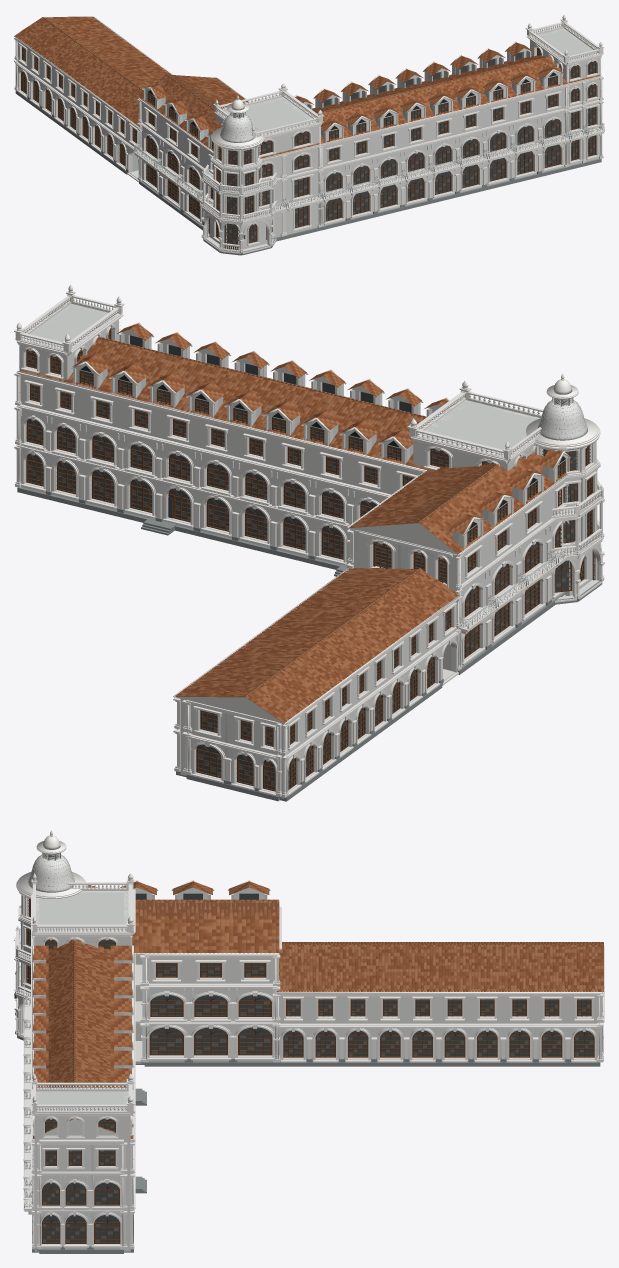
Rendered from b2bd7e80-a737-4557-a658-5c7fc2249a0a-building_reconstruction.glb.
3 renders of one model, top to bottom at view 1: azimuth 30°, elevation 25°; view 2: azimuth 150°, elevation 25°; view 3: azimuth 270°, elevation 25°, orthographic. The views are drawn at different scales.
Parts seen in each view (by area): view 1: Low annex | individually modeled clay tiles, Long main wing | individually modeled clay tiles, Near tower pavilion | bay 02, Short main wing | individually modeled clay tiles, Near pavilion | parapet and roof terrace, Tower | octagon face 05, Long street elevation | bay 04, Long street elevation | bay 08, Long street elevation | bay 05, Long street elevation | bay 07, Long street elevation | bay 03, Long street elevation | bay 02 (+48 smaller); view 2: Low annex | individually modeled clay tiles, Long main wing | individually modeled clay tiles, Short main wing | individually modeled clay tiles, Near pavilion | parapet and roof terrace, Inferred main courtyard elevation | bay 06, Inferred main courtyard elevation | bay 09, Inferred main courtyard elevation | bay 05, Inferred main courtyard elevation | bay 04, Inferred main courtyard elevation | bay 08, Inferred main courtyard elevation | bay 07, Inferred main courtyard elevation | bay 03, Inferred main courtyard elevation | bay 10 (+40 smaller); view 3: Low annex | individually modeled clay tiles, Long main wing | individually modeled clay tiles, Short main wing | individually modeled clay tiles, Near pavilion | parapet and roof terrace, Inferred short courtyard elevation | bay 02, Inferred short courtyard elevation | bay 03, Inferred short courtyard elevation | bay 01, Inferred terminal side | bay 03, Far pavilion | parapet and roof terrace, Inferred terminal side | bay 02, Inferred terminal side | bay 01, Corner tower | molded circular cornice and bell roof (+21 smaller).
Part boxes in pixels (left/top/right/bottom): Low annex | individually modeled clay tiles: left=14, top=16, right=172, bottom=127; Long main wing | individually modeled clay tiles: left=260, top=55, right=600, bottom=159; Near tower pavilion | bay 02: left=283, top=126, right=324, bottom=239; Short main wing | individually modeled clay tiles: left=138, top=74, right=247, bottom=152; Near pavilion | parapet and roof terrace: left=213, top=83, right=324, bottom=138; Tower | octagon face 05: left=237, top=145, right=273, bottom=255; Long street elevation | bay 04: left=400, top=118, right=433, bottom=210; Long street elevation | bay 08: left=509, top=91, right=543, bottom=183; Long street elevation | bay 05: left=427, top=111, right=461, bottom=203; Long street elevation | bay 07: left=482, top=98, right=515, bottom=190; Long street elevation | bay 03: left=373, top=125, right=406, bottom=216; Long street elevation | bay 02: left=345, top=131, right=379, bottom=223; Low annex | individually modeled clay tiles: left=173, top=568, right=460, bottom=724; Long main wing | individually modeled clay tiles: left=18, top=337, right=429, bottom=470; Short main wing | individually modeled clay tiles: left=348, top=452, right=568, bottom=555; Near pavilion | parapet and roof terrace: left=407, top=381, right=543, bottom=463; Inferred main courtyard elevation | bay 06: left=195, top=415, right=239, bottom=544; Inferred main courtyard elevation | bay 09: left=80, top=387, right=124, bottom=516; Inferred main courtyard elevation | bay 05: left=234, top=425, right=277, bottom=554; Inferred main courtyard elevation | bay 04: left=272, top=434, right=315, bottom=563; Inferred main courtyard elevation | bay 08: left=119, top=397, right=162, bottom=522; Inferred main courtyard elevation | bay 07: left=157, top=406, right=201, bottom=535; Inferred main courtyard elevation | bay 03: left=310, top=443, right=354, bottom=569; Inferred main courtyard elevation | bay 10: left=47, top=379, right=86, bottom=507; Low annex | individually modeled clay tiles: left=276, top=942, right=603, bottom=993; Long main wing | individually modeled clay tiles: left=32, top=935, right=134, bottom=1139; Short main wing | individually modeled clay tiles: left=132, top=899, right=279, bottom=954; Near pavilion | parapet and roof terrace: left=31, top=873, right=135, bottom=936; Inferred short courtyard elevation | bay 02: left=184, top=954, right=232, bottom=1066; Inferred short courtyard elevation | bay 03: left=229, top=954, right=277, bottom=1066; Inferred short courtyard elevation | bay 01: left=140, top=954, right=188, bottom=1066; Inferred terminal side | bay 03: left=87, top=1139, right=123, bottom=1253; Far pavilion | parapet and roof terrace: left=31, top=1073, right=135, bottom=1116; Inferred terminal side | bay 02: left=60, top=1139, right=90, bottom=1253; Inferred terminal side | bay 01: left=37, top=1139, right=62, bottom=1253; Corner tower | molded circular cornice and bell roof: left=16, top=830, right=86, bottom=898.
Size of the model in its own units: 61.61 by 22.76 by 62.63.
